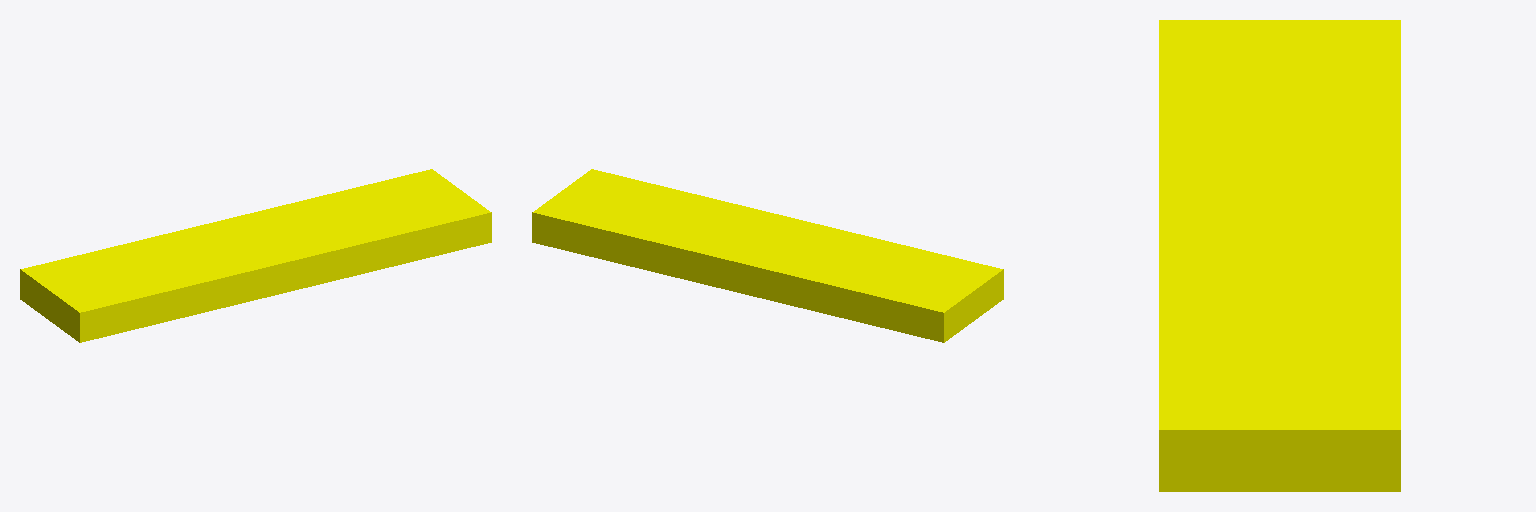
URDF robot description (slate.urdf):
<?xml version="0.0" ?>
<robot name="slate.urdf">
  <link name="baseLink">
    <contact>
      <lateral_friction value="1.0"/>
      <inertia_scaling value="3.0"/>
    </contact>
    <inertial>
      <origin rpy="0 0 0" xyz="0 0 0"/>
       <mass value=".9"/>
       <inertia ixx="1" ixy="0" ixz="0" iyy="1" iyz="0" izz="1"/>
    </inertial>
    <visual>
      <origin rpy="0 0 0" xyz="0 0 0"/>
      <geometry>
        <mesh filename="slate.obj" scale=".5 .125 .035"/>
      </geometry>
       <material name="yellow">
        <color rgba="1 1 0 1"/>
      </material>
    </visual>
    <collision>
      <origin rpy="0 0 0" xyz="0 0 0"/>
      <geometry>
    <box size=".5 .125 .035"/>
      </geometry>
    </collision>
  </link>
</robot>

--- Render facts (derived) ---
3 views of the same robot in one strip: view 1: azimuth 30°, elevation 25°; view 2: azimuth 150°, elevation 25°; view 3: azimuth 270°, elevation 25° (orthographic).
Robot: slate.urdf — 1 links, 0 joints (none); root link baseLink; default pose: all joints at 0.
Links seen in each view (by area): view 1: baseLink; view 2: baseLink; view 3: baseLink.
Boxes of the visible links, x1,y1,x2,y2 form: baseLink: [20, 169, 491, 342]; baseLink: [532, 169, 1003, 342]; baseLink: [1159, 20, 1400, 491].
Bounding box of the posed robot: 0.5 × 0.125 × 0.035 m (x, y, z).
Meshes: 1 distinct files referenced, 1 mesh visuals loaded (1 OBJ).